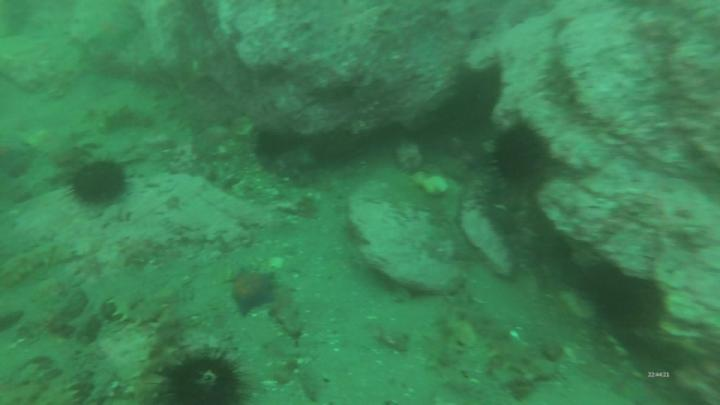echinus: (153, 343, 254, 405), (494, 120, 549, 193), (583, 261, 638, 326), (66, 159, 131, 211), (253, 128, 297, 165)
holothurian: (1, 240, 60, 293), (103, 280, 165, 329), (35, 378, 92, 405)
starfish: (226, 265, 283, 317)
